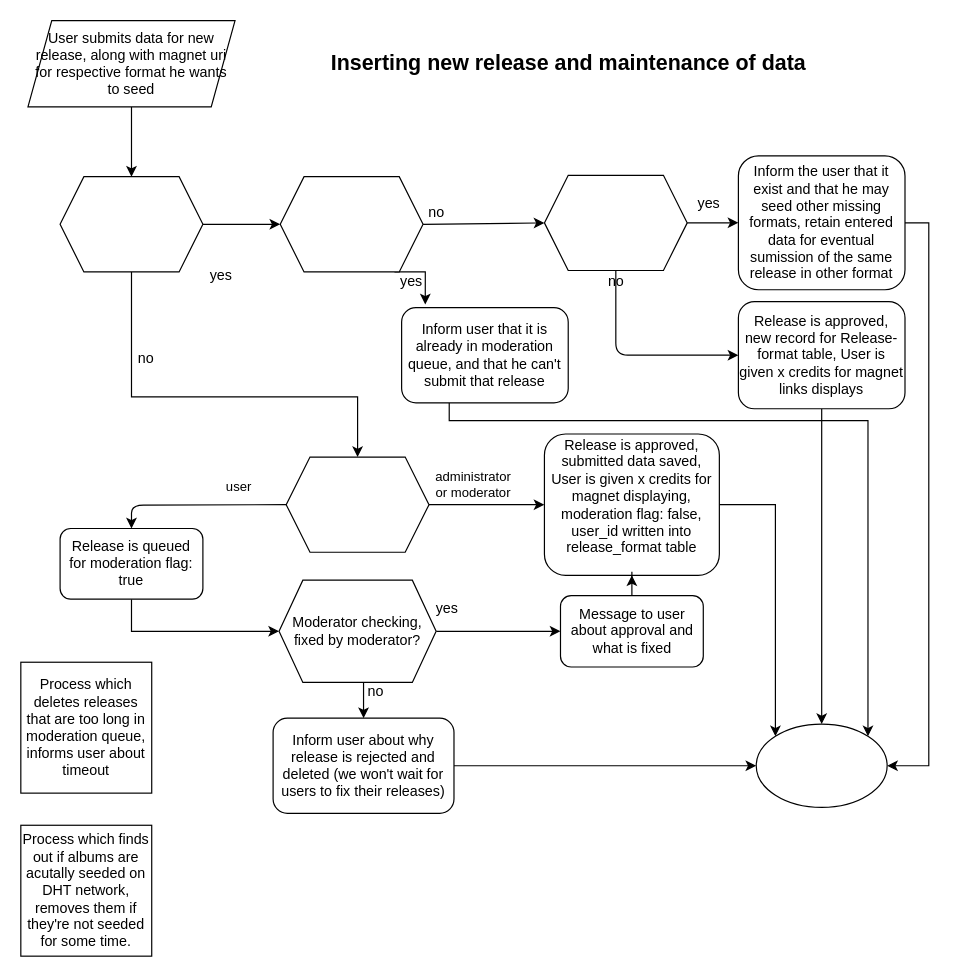
The diagram is 959 pixels wide and 978 high, and some of its shapes have lost their labels. The shapes that lost their labels are listed below. From the top down, each one's centre as x and y in pixels, then its label:
[131,224]: Release exists?
[351,224]: Is it in queue for moderation?
[615,222]: Submitted format already seeded?
[357,504]: User level?
[821,765]: End
